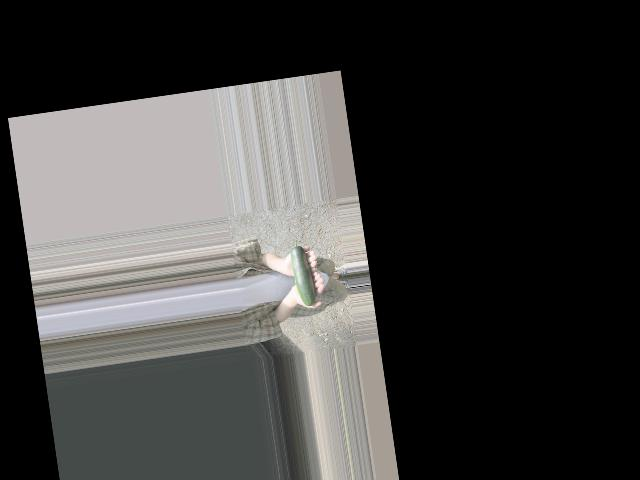cucumber: (288, 236, 317, 307)
